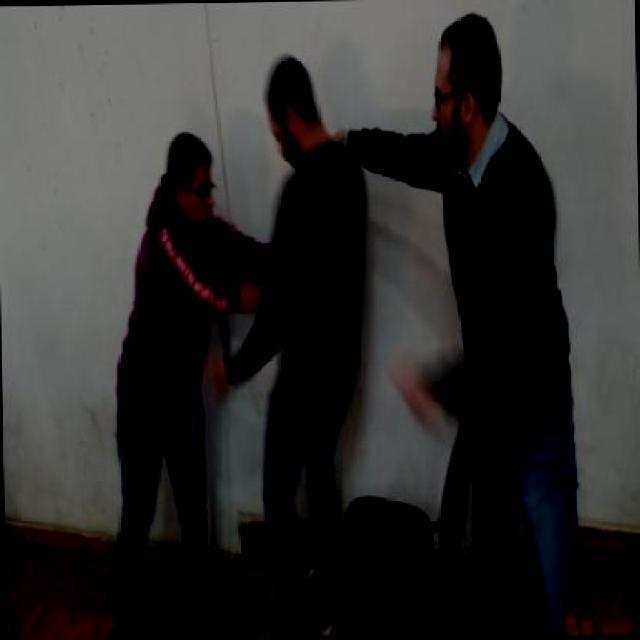fight: (128, 54, 368, 450)
